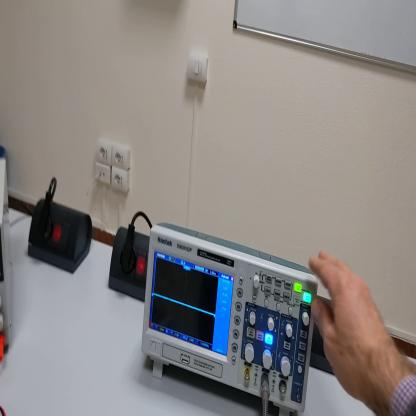hand: (308, 248, 395, 403)
oscilloscope: (141, 221, 319, 416)
power supply: (1, 155, 15, 356)
socket: (28, 203, 95, 276), (110, 227, 150, 302)
